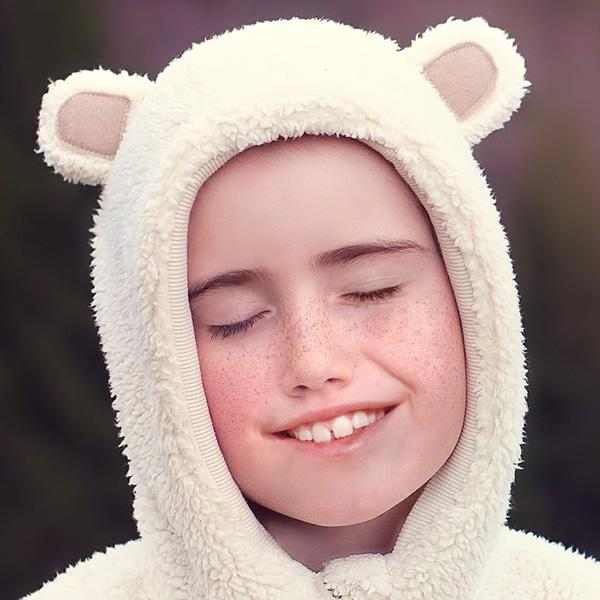Eyes: (195, 286, 278, 349), (328, 265, 412, 318)
